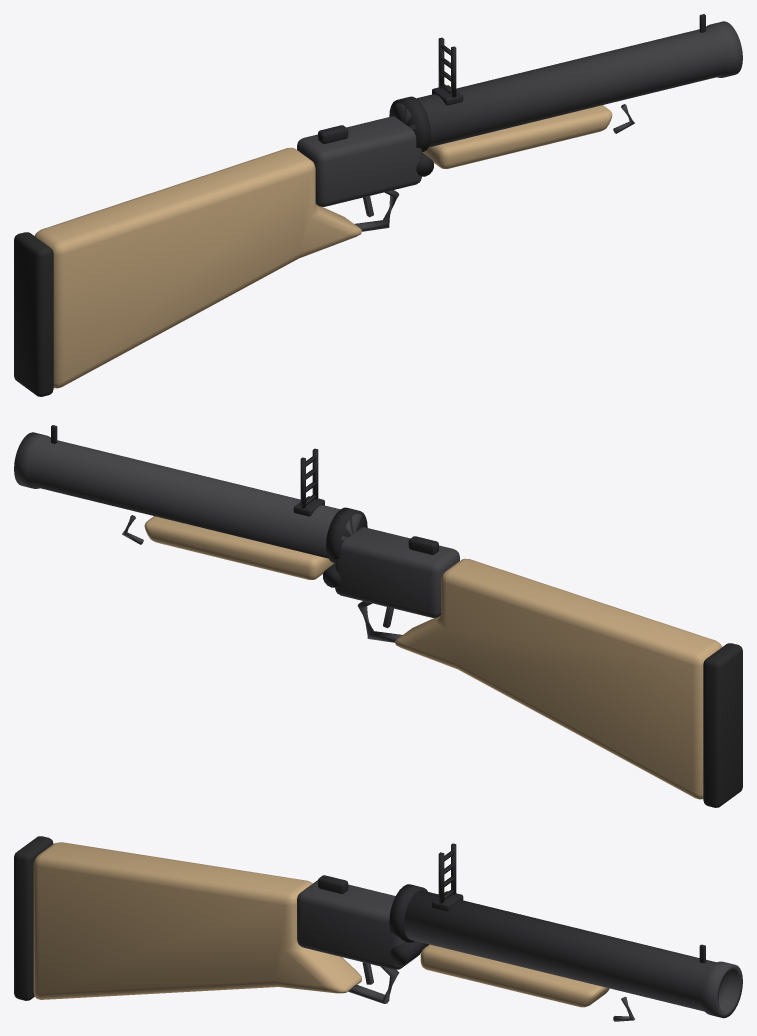
The picture shows the model from 3 angles, top to bottom: view 1: azimuth 30°, elevation 25°; view 2: azimuth 150°, elevation 25°; view 3: azimuth 330°, elevation 25°; orthographic projection.
Parts seen in each view (by area): view 1: SM_M79; view 2: SM_M79; view 3: SM_M79.
Boxes of the visible parts, x1,y1,x2,y2 form: SM_M79: (14,14,742,396); SM_M79: (14,425,742,807); SM_M79: (14,836,742,1021).
Bounding box in the file's own units: 0.8 × 0.265 × 0.056.
